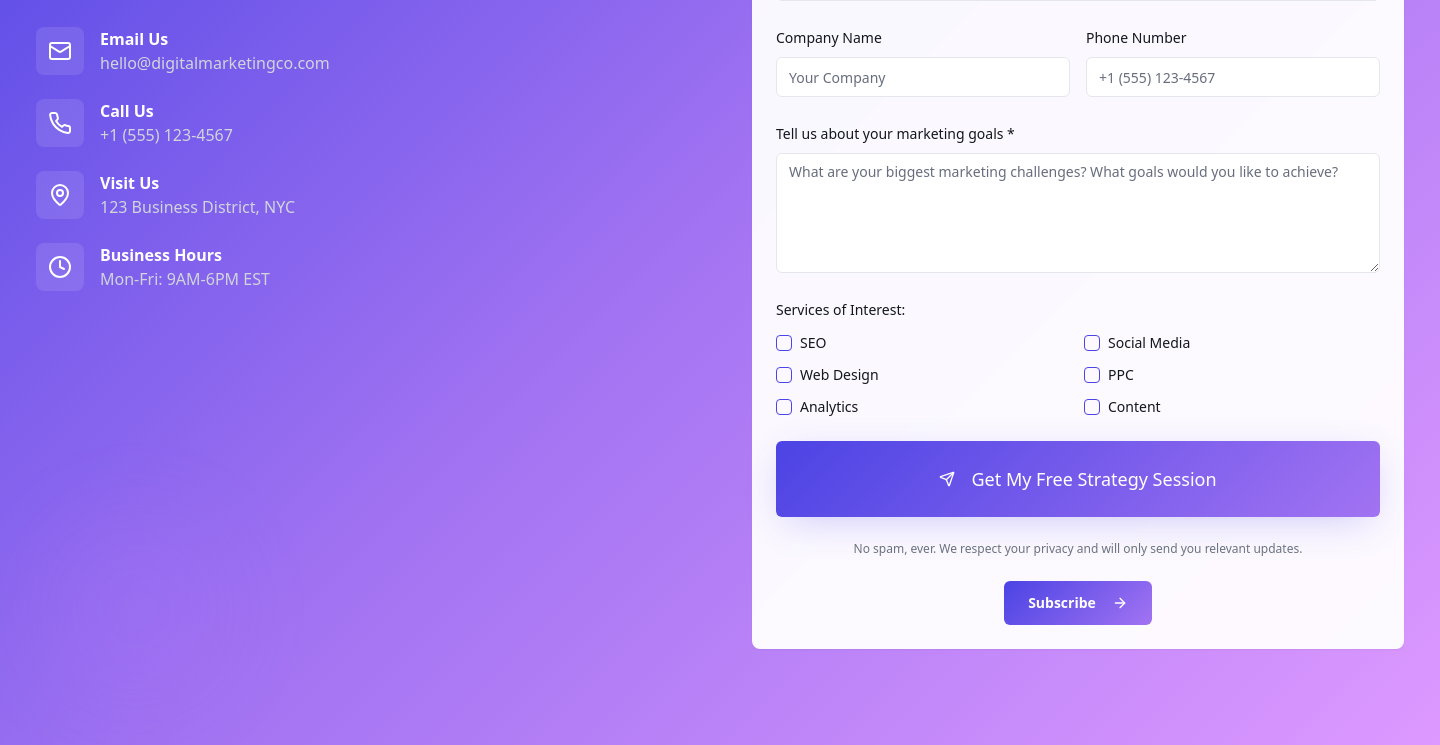
Test: ContactSection › Form validation › clears validation errors when user starts typing
The width and height of the screenshot is (1440, 745).
(page scrolled)
Click the button "Get My Free Strategy Session" at (1078, 479), box [776, 441, 1380, 517]
(page scrolled)
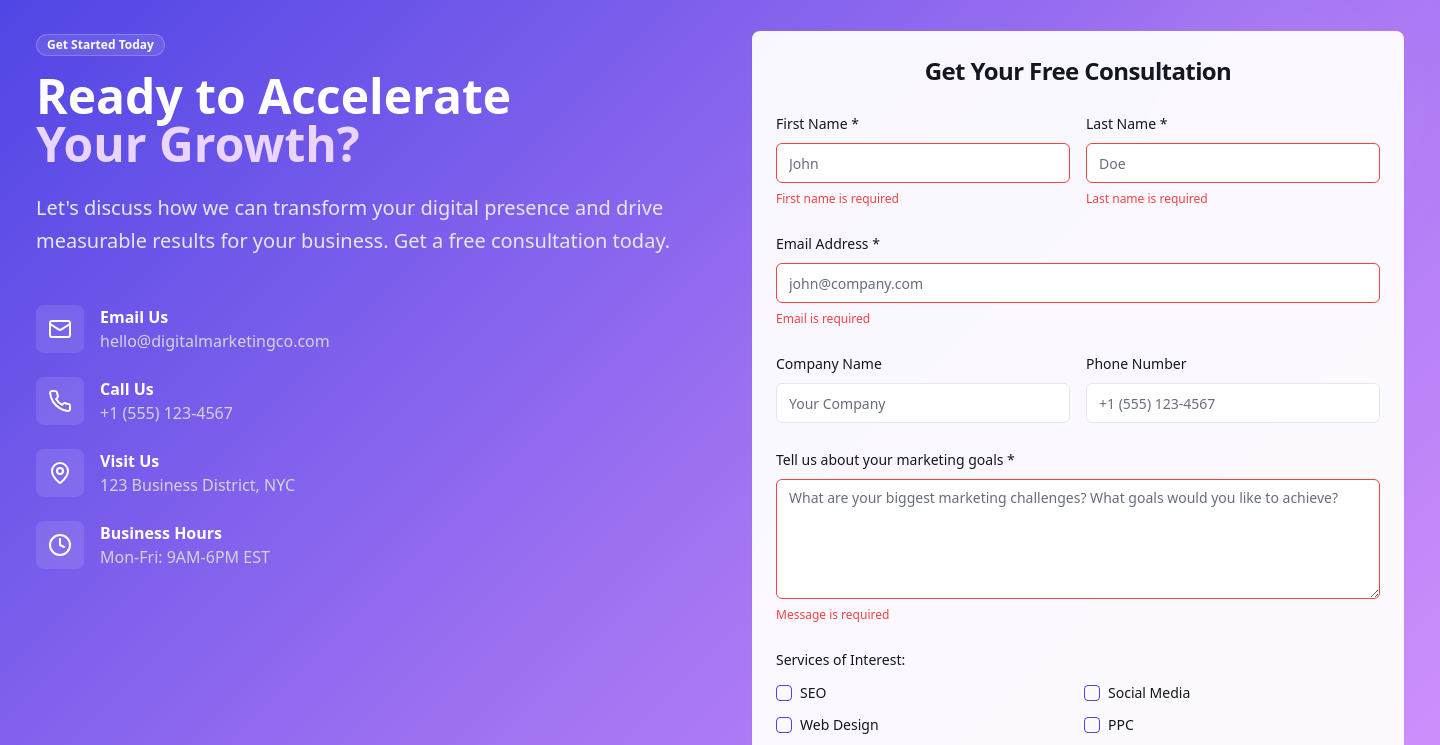
Expected: the text "First name is required" is shown, [776, 190, 899, 207]
Type "J" into the field labelled "First Name *" at (923, 163), box [776, 143, 1070, 183]
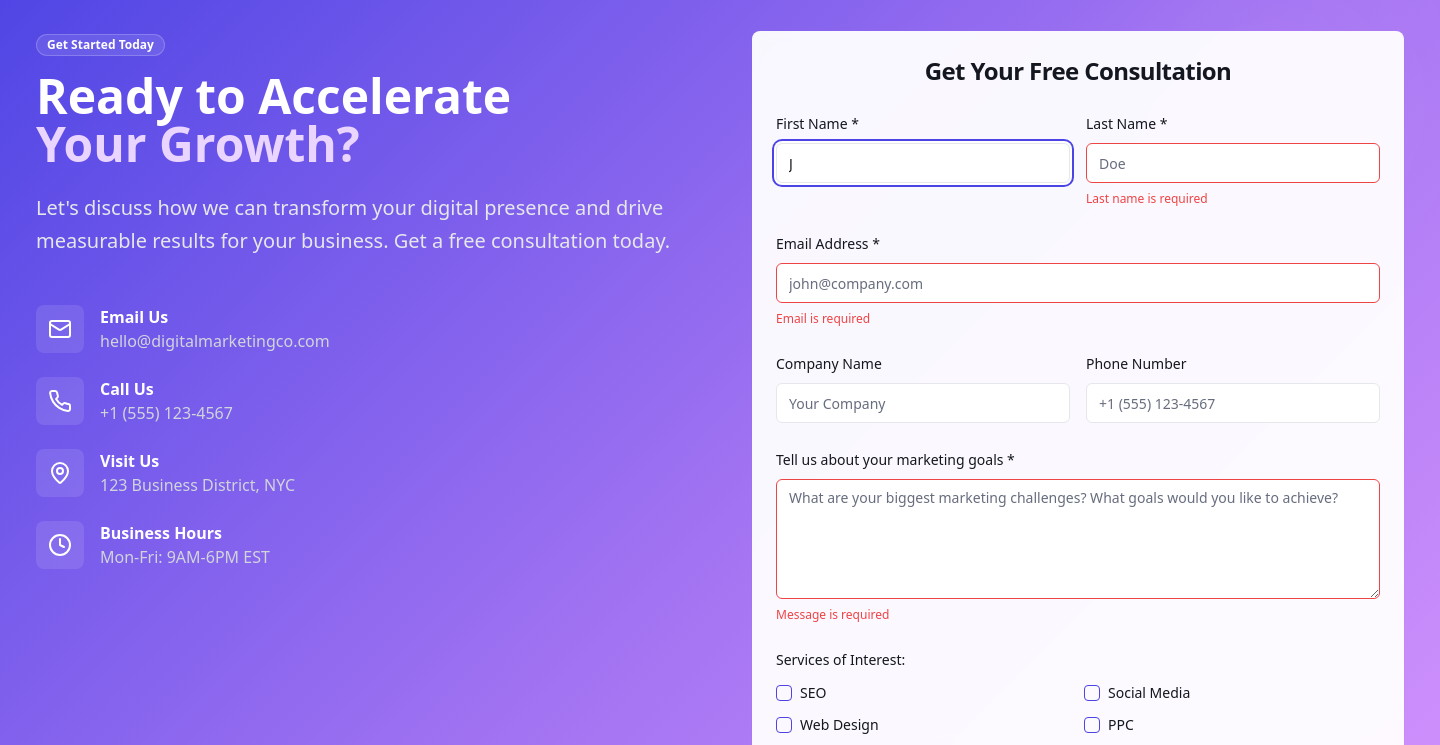
Expected: the text "First name is required" is gone
